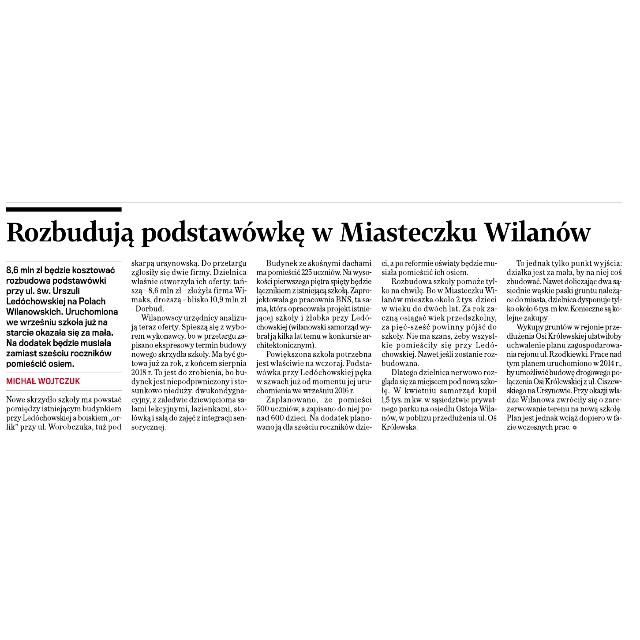author: (4, 214, 596, 252), (3, 374, 85, 390)
body: (502, 255, 628, 435), (252, 256, 376, 436), (380, 256, 500, 434), (128, 258, 248, 432), (3, 394, 125, 434)
lead: (2, 263, 120, 371)
